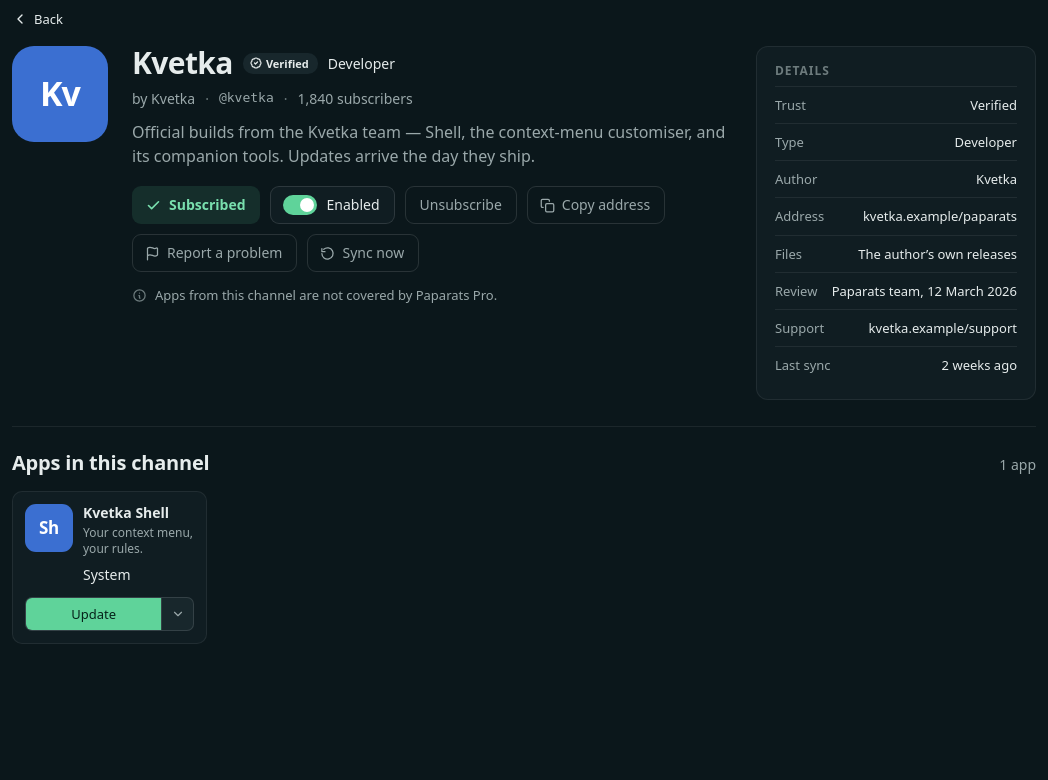
Test case: ChannelScreen › copies the address and syncs
Expected: the heading "Kvetka" is shown, [132,46,233,81]
Step 1. Click the button "Copy address" → x=596, y=205, box [527,186,665,224]
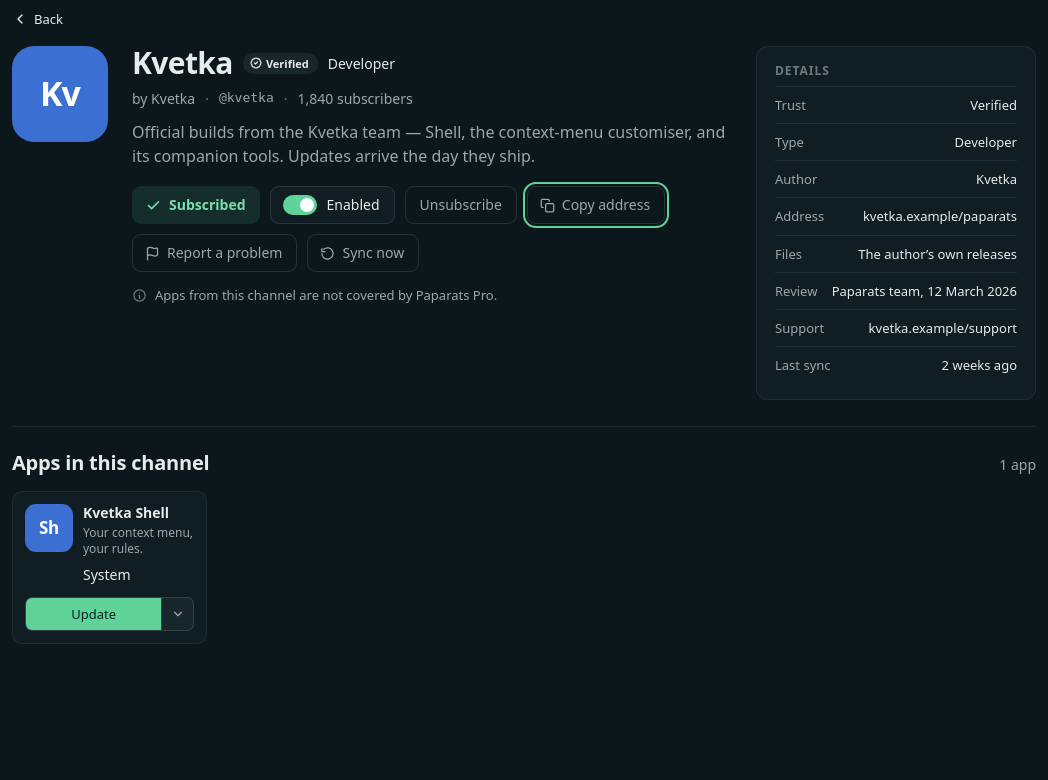
Step 2. Click the button "Sync now" → x=363, y=253, box [308,234,419,272]
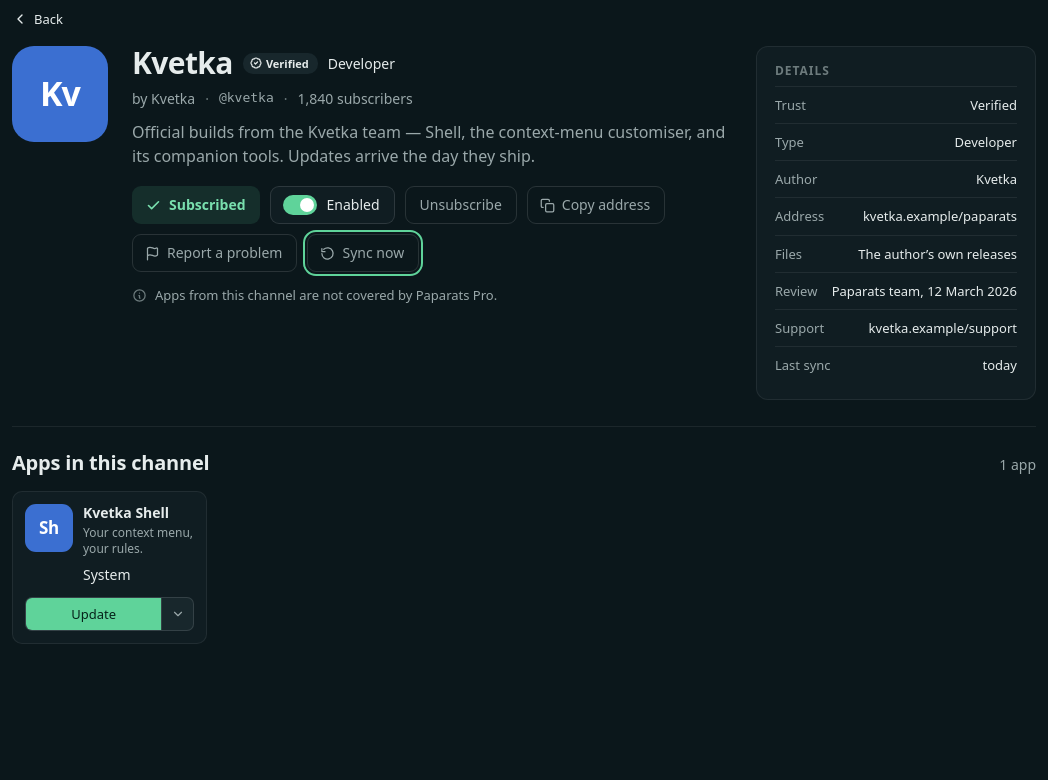
Expected: the text "today" is shown, [982,356,1017,374]
